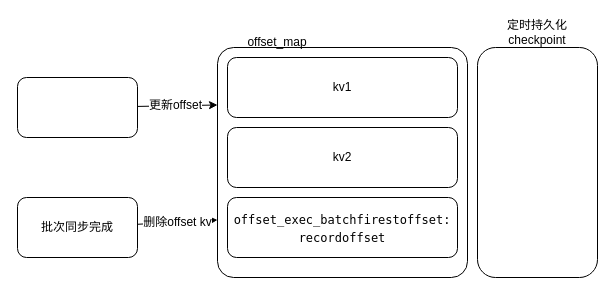
The diagram is 615 pixels wide and 295 high, and some of its shapes have lost their labels. Each missing label, with the box of its shape:
取offset_map中offset最小值作为checkpoint持久化: (476, 46, 598, 278)
对象同步完成: (16, 76, 138, 138)
